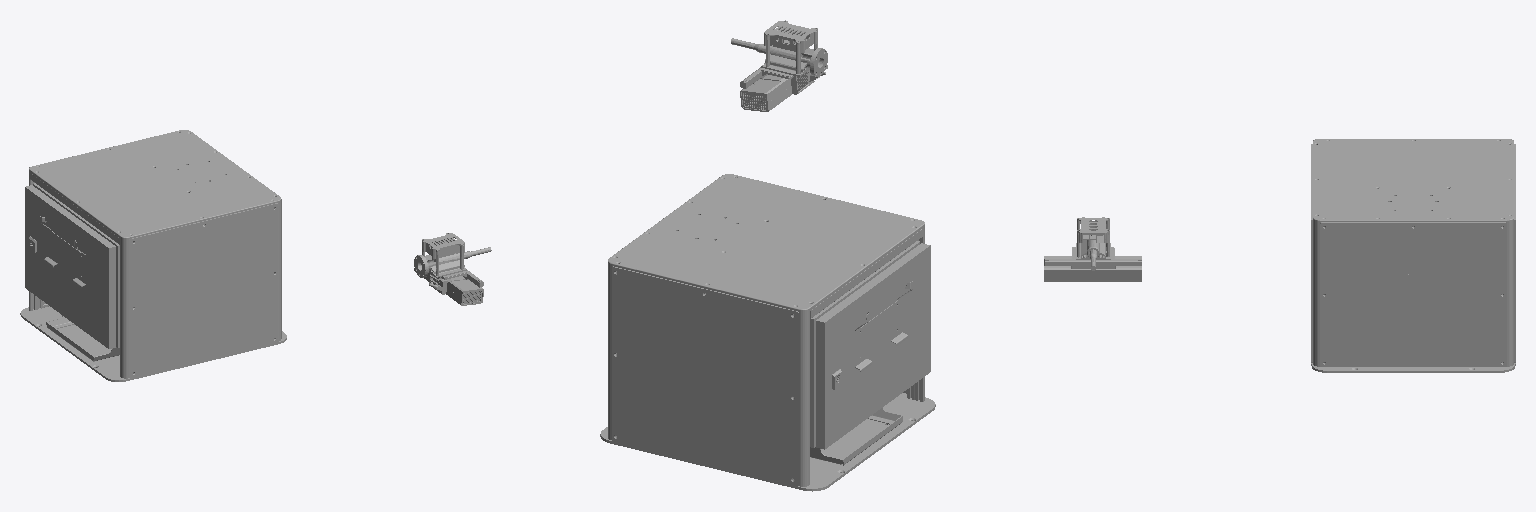
The robot description file, URDF, robot "monitoring_robot":
<?xml version="1.0" ?>
<!-- =================================================================================== -->
<!-- |    This document was autogenerated by xacro from [local-path]/ros_workspace/src/monitoring_robot/robot_description/monitoring_robot.urdf.xacro | -->
<!-- |    EDITING THIS FILE BY HAND IS NOT RECOMMENDED                                 | -->
<!-- =================================================================================== -->
<robot name="monitoring_robot" xmlns:xacro="http://www.ros.org/wiki/xacro">
  <material name="Neobotix/Black">
    <color rgba="0.0 0.0 0.0 1.0"/>
  </material>
  <material name="Neobotix/Blue">
    <color rgba="0.0 0.0 0.8 1.0"/>
  </material>
  <material name="Neobotix/Green">
    <color rgba="0.0 0.8 0.0 1.0"/>
  </material>
  <material name="Neobotix/Grey">
    <color rgba="0.7 0.7 0.7 1.0"/>
  </material>
  <material name="Neobotix/Grey2">
    <color rgba="0.9 0.9 0.9 1.0"/>
  </material>
  <material name="Neobotix/Red">
    <color rgba="0.8 0.0 0.0 1.0"/>
  </material>
  <material name="Neobotix/White">
    <color rgba="1.0 1.0 1.0 1.0"/>
  </material>
  <material name="Neobotix/Yellow">
    <color rgba="1.0 1.0 0 10"/>
  </material>
  <gazebo reference="base_link">
    <gravity>true</gravity>
    <self_collide>false</self_collide>
    <material value="Gazebo/Grey"/>
  </gazebo>
  <gazebo reference="sick_s300_laser_front_link">
    <material value="Gazebo/Yellow"/>
    <sensor name="sick_s300_laser_front_sensor" type="ray">
      <pose>0 0 0 0 0 0</pose>
      <visualize>true</visualize>
      <update_rate>40</update_rate>
      <ray>
        <scan>
          <horizontal>
            <samples>720</samples>
            <resolution>1</resolution>
            <min_angle>-0.174533</min_angle>
            <max_angle>3.31613</max_angle>
          </horizontal>
        </scan>
        <range>
          <min>0.10</min>
          <max>30.0</max>
          <resolution>0.05</resolution>
        </range>
        <noise>
          <type>gaussian</type>
          <!-- Noise parameters based on published spec for Hokuyo laser
                   achieving "+-30mm" accuracy at range < 10m.  A mean of 0.0m and
                   stddev of 0.01m will put 99.7% of samples within 0.03m of the true
                   reading. -->
          <mean>0.0</mean>
          <stddev>0.01</stddev>
        </noise>
      </ray>
      <plugin filename="libgazebo_ros_laser.so" name="sick_s300_laser_front">
        <topicName>sick_s300_front/scan</topicName>
        <frameName>sick_s300_laser_front_link</frameName>
      </plugin>
    </sensor>
  </gazebo>
  <gazebo reference="sick_s300_laser_back_link">
    <material value="Gazebo/Yellow"/>
    <sensor name="sick_s300_laser_back_sensor" type="ray">
      <pose>0 0 0 0 0 0</pose>
      <visualize>true</visualize>
      <update_rate>40</update_rate>
      <ray>
        <scan>
          <horizontal>
            <samples>720</samples>
            <resolution>1</resolution>
            <min_angle>-0.174533</min_angle>
            <max_angle>3.31613</max_angle>
          </horizontal>
        </scan>
        <range>
          <min>0.10</min>
          <max>30.0</max>
          <resolution>0.05</resolution>
        </range>
        <noise>
          <type>gaussian</type>
          <!-- Noise parameters based on published spec for Hokuyo laser
                   achieving "+-30mm" accuracy at range < 10m.  A mean of 0.0m and
                   stddev of 0.01m will put 99.7% of samples within 0.03m of the true
                   reading. -->
          <mean>0.0</mean>
          <stddev>0.01</stddev>
        </noise>
      </ray>
      <plugin filename="libgazebo_ros_laser.so" name="sick_s300_laser_back">
        <topicName>sick_s300_back/scan</topicName>
        <frameName>sick_s300_laser_back_link</frameName>
      </plugin>
    </sensor>
  </gazebo>
  <gazebo>
    <plugin filename="libgazebo_ros_planar_move.so" name="mpo_500_controller">
      <commandTopic>cmd_vel</commandTopic>
      <odometryTopic>odom</odometryTopic>
      <odometryFrame>odom</odometryFrame>
      <odometryRate>20.0</odometryRate>
      <robotBaseFrame>base_link</robotBaseFrame>
    </plugin>
  </gazebo>
  <link name="base_link">
    <inertial>
      <mass value="30"/>
      <origin rpy="0 0 0" xyz="0 0 0"/>
      <inertia ixx="1.71402" ixy="0.0" ixz="0.0" iyy="0.8856" iyz="0.0" izz="2.5725"/>
    </inertial>
    <visual>
      <origin rpy="0 0 -1.571" xyz="0.0 0.0 0.021"/>
      <geometry>
        <mesh filename="package://monitoring_robot/robot_description/mpo_700/meshes/MPO-700.stl" scale="0.001 0.001 0.001"/>
      </geometry>
      <material name="Neobotix/Grey"/>
    </visual>
    <collision>
      <origin rpy="0 0 0" xyz="0. 0. 0.2"/>
      <geometry>
        <box size="0.610 0.515 0.360"/>
      </geometry>
    </collision>
  </link>
  <joint name="sick_s300_laser_front_joint" type="fixed">
    <axis xyz="0 1 0"/>
    <origin rpy="3.14 0 0" xyz="0.360 0 0.223"/>
    <parent link="base_link"/>
    <child link="sick_s300_laser_front_link"/>
  </joint>
  <link name="sick_s300_laser_front_link" type="laser">
    <inertial>
      <mass value="0.001"/>
      <origin rpy="0 0 0" xyz="0 0 0"/>
      <inertia ixx="0.0001" ixy="0" ixz="0" iyy="0.000001" iyz="0" izz="0.0001"/>
    </inertial>
    <visual>
      <origin rpy="0 0 -1.5708" xyz="0 0 0.0"/>
      <geometry>
        <mesh filename="package://neo_simulation/robots/mpo_700/meshes/MPO-700-SICK.STL"/>
      </geometry>
      <material name="Neobotix/Yellow"/>
    </visual>
    <collision>
      <origin rpy="0 0 0" xyz="0 0 0"/>
      <geometry>
        <cylinder length="0.154" radius="0.053"/>
      </geometry>
    </collision>
  </link>
  <joint name="sick_s300_laser_back_joint" type="fixed">
    <axis xyz="0 1 0"/>
    <origin rpy="3.14 0 -3.14" xyz="-0.360 0 0.223"/>
    <parent link="base_link"/>
    <child link="sick_s300_laser_back_link"/>
  </joint>
  <link name="sick_s300_laser_back_link" type="laser">
    <inertial>
      <mass value="0.001"/>
      <origin rpy="0 0 0" xyz="0 0 0"/>
      <inertia ixx="0.0001" ixy="0" ixz="0" iyy="0.000001" iyz="0" izz="0.0001"/>
    </inertial>
    <visual>
      <origin rpy="0 0 -1.5708" xyz="0 0 0.0"/>
      <geometry>
        <mesh filename="package://neo_simulation/robots/mpo_700/meshes/MPO-700-SICK.STL"/>
      </geometry>
      <material name="Neobotix/Yellow"/>
    </visual>
    <collision>
      <origin rpy="0 0 0" xyz="0 0 0"/>
      <geometry>
        <cylinder length="0.154" radius="0.053"/>
      </geometry>
    </collision>
  </link>
  <link name="cabinet">
    <inertial>
      <mass value="30"/>
      <origin rpy="0 0 0" xyz="0 0 0"/>
      <inertia ixx="1.71402" ixy="0.0" ixz="0.0" iyy="0.8856" iyz="0.0" izz="2.5725"/>
    </inertial>
    <visual>
      <origin rpy="0 0 1.5708" xyz="0.0 0.0 0.0"/>
      <geometry>
        <mesh filename="package://monitoring_robot/robot_description/mpo_700/meshes/MPO700ControllerCabinet.stl" scale="0.01 0.01 0.01"/>
      </geometry>
      <material name="Neobotix/Grey"/>
    </visual>
    <collision>
      <origin rpy="0 0 0" xyz="0. 0. 0.2"/>
      <geometry>
        <box size="0.530 0.52 0.42"/>
      </geometry>
    </collision>
  </link>
  <joint name="base_cabinet" type="fixed">
    <parent link="base_link"/>
    <child link="cabinet"/>
    <origin rpy="0 0 0" xyz="0.0 0.0 0.36"/>
  </joint>
  <gazebo>
    <plugin filename="libgazebo_ros_control.so" name="ros_control">
      <!--robotNamespace>/</robotNamespace-->
      <!--robotSimType>gazebo_ros_control/DefaultRobotHWSim</robotSimType-->
    </plugin>
    <!--
    <plugin name="gazebo_ros_power_monitor_controller" filename="libgazebo_ros_power_monitor.so">
      <alwaysOn>true</alwaysOn>
      <updateRate>1.0</updateRate>
      <timeout>5</timeout>
      <powerStateTopic>power_state</powerStateTopic>
      <powerStateRate>10.0</powerStateRate>
      <fullChargeCapacity>87.78</fullChargeCapacity>     
      <dischargeRate>-474</dischargeRate>
      <chargeRate>525</chargeRate>
      <dischargeVoltage>15.52</dischargeVoltage>
      <chargeVoltage>16.41</chargeVoltage>
    </plugin>
-->
  </gazebo>
  <!-- measured from model -->
  <!--property name="shoulder_height" value="0.089159" /-->
  <!--property name="shoulder_offset" value="0.13585" /-->
  <!-- shoulder_offset - elbow_offset + wrist_1_length = 0.10915 -->
  <!--property name="upper_arm_length" value="0.42500" /-->
  <!--property name="elbow_offset" value="0.1197" /-->
  <!-- CAD measured -->
  <!--property name="forearm_length" value="0.39225" /-->
  <!--property name="wrist_1_length" value="0.093" /-->
  <!-- CAD measured -->
  <!--property name="wrist_2_length" value="0.09465" /-->
  <!-- In CAD this distance is 0.930, but in the spec it is 0.09465 -->
  <!--property name="wrist_3_length" value="0.0823" /-->
  <!-- manually measured -->
  <link name="ur5_base_link">
    <visual>
      <geometry>
        <mesh filename="package://ur_description/meshes/ur5/visual/base.dae"/>
      </geometry>
      <material name="LightGrey">
        <color rgba="0.7 0.7 0.7 1.0"/>
      </material>
    </visual>
    <collision>
      <geometry>
        <mesh filename="package://ur_description/meshes/ur5/collision/base.stl"/>
      </geometry>
    </collision>
    <inertial>
      <mass value="4.0"/>
      <origin rpy="0 0 0" xyz="0.0 0.0 0.0"/>
      <inertia ixx="0.00443333156" ixy="0.0" ixz="0.0" iyy="0.00443333156" iyz="0.0" izz="0.0072"/>
    </inertial>
  </link>
  <joint name="shoulder_pan_joint" type="revolute">
    <parent link="ur5_base_link"/>
    <child link="shoulder_link"/>
    <origin rpy="0.0 0.0 0.0" xyz="0.0 0.0 0.089159"/>
    <axis xyz="0 0 1"/>
    <limit effort="150.0" lower="-3.14159265359" upper="3.14159265359" velocity="3.15"/>
    <dynamics damping="0.0" friction="0.0"/>
  </joint>
  <link name="shoulder_link">
    <visual>
      <geometry>
        <mesh filename="package://ur_description/meshes/ur5/visual/shoulder.dae"/>
      </geometry>
      <material name="LightGrey">
        <color rgba="0.7 0.7 0.7 1.0"/>
      </material>
    </visual>
    <collision>
      <geometry>
        <mesh filename="package://ur_description/meshes/ur5/collision/shoulder.stl"/>
      </geometry>
    </collision>
    <inertial>
      <mass value="3.7"/>
      <origin rpy="0 0 0" xyz="0.0 0.0 0.0"/>
      <inertia ixx="0.010267495893" ixy="0.0" ixz="0.0" iyy="0.010267495893" iyz="0.0" izz="0.00666"/>
    </inertial>
  </link>
  <joint name="shoulder_lift_joint" type="revolute">
    <parent link="shoulder_link"/>
    <child link="upper_arm_link"/>
    <origin rpy="0.0 1.57079632679 0.0" xyz="0.0 0.13585 0.0"/>
    <axis xyz="0 1 0"/>
    <limit effort="150.0" lower="-3.14159265359" upper="3.14159265359" velocity="3.15"/>
    <dynamics damping="0.0" friction="0.0"/>
  </joint>
  <link name="upper_arm_link">
    <visual>
      <geometry>
        <mesh filename="package://ur_description/meshes/ur5/visual/upperarm.dae"/>
      </geometry>
      <material name="LightGrey">
        <color rgba="0.7 0.7 0.7 1.0"/>
      </material>
    </visual>
    <collision>
      <geometry>
        <mesh filename="package://ur_description/meshes/ur5/collision/upperarm.stl"/>
      </geometry>
    </collision>
    <inertial>
      <mass value="8.393"/>
      <origin rpy="0 0 0" xyz="0.0 0.0 0.28"/>
      <inertia ixx="0.22689067591" ixy="0.0" ixz="0.0" iyy="0.22689067591" iyz="0.0" izz="0.0151074"/>
    </inertial>
  </link>
  <joint name="elbow_joint" type="revolute">
    <parent link="upper_arm_link"/>
    <child link="forearm_link"/>
    <origin rpy="0.0 0.0 0.0" xyz="0.0 -0.1197 0.425"/>
    <axis xyz="0 1 0"/>
    <limit effort="150.0" lower="-3.14159265359" upper="3.14159265359" velocity="3.15"/>
    <dynamics damping="0.0" friction="0.0"/>
  </joint>
  <link name="forearm_link">
    <visual>
      <geometry>
        <mesh filename="package://ur_description/meshes/ur5/visual/forearm.dae"/>
      </geometry>
      <material name="LightGrey">
        <color rgba="0.7 0.7 0.7 1.0"/>
      </material>
    </visual>
    <collision>
      <geometry>
        <mesh filename="package://ur_description/meshes/ur5/collision/forearm.stl"/>
      </geometry>
    </collision>
    <inertial>
      <mass value="2.275"/>
      <origin rpy="0 0 0" xyz="0.0 0.0 0.25"/>
      <inertia ixx="0.049443313556" ixy="0.0" ixz="0.0" iyy="0.049443313556" iyz="0.0" izz="0.004095"/>
    </inertial>
  </link>
  <joint name="wrist_1_joint" type="revolute">
    <parent link="forearm_link"/>
    <child link="wrist_1_link"/>
    <origin rpy="0.0 1.57079632679 0.0" xyz="0.0 0.0 0.39225"/>
    <axis xyz="0 1 0"/>
    <limit effort="28.0" lower="-3.14159265359" upper="3.14159265359" velocity="3.2"/>
    <dynamics damping="0.0" friction="0.0"/>
  </joint>
  <link name="wrist_1_link">
    <visual>
      <geometry>
        <mesh filename="package://ur_description/meshes/ur5/visual/wrist1.dae"/>
      </geometry>
      <material name="LightGrey">
        <color rgba="0.7 0.7 0.7 1.0"/>
      </material>
    </visual>
    <collision>
      <geometry>
        <mesh filename="package://ur_description/meshes/ur5/collision/wrist1.stl"/>
      </geometry>
    </collision>
    <inertial>
      <mass value="1.219"/>
      <origin rpy="0 0 0" xyz="0.0 0.0 0.0"/>
      <inertia ixx="0.111172755531" ixy="0.0" ixz="0.0" iyy="0.111172755531" iyz="0.0" izz="0.21942"/>
    </inertial>
  </link>
  <joint name="wrist_2_joint" type="revolute">
    <parent link="wrist_1_link"/>
    <child link="wrist_2_link"/>
    <origin rpy="0.0 0.0 0.0" xyz="0.0 0.093 0.0"/>
    <axis xyz="0 0 1"/>
    <limit effort="28.0" lower="-3.14159265359" upper="3.14159265359" velocity="3.2"/>
    <dynamics damping="0.0" friction="0.0"/>
  </joint>
  <link name="wrist_2_link">
    <visual>
      <geometry>
        <mesh filename="package://ur_description/meshes/ur5/visual/wrist2.dae"/>
      </geometry>
      <material name="LightGrey">
        <color rgba="0.7 0.7 0.7 1.0"/>
      </material>
    </visual>
    <collision>
      <geometry>
        <mesh filename="package://ur_description/meshes/ur5/collision/wrist2.stl"/>
      </geometry>
    </collision>
    <inertial>
      <mass value="1.219"/>
      <origin rpy="0 0 0" xyz="0.0 0.0 0.0"/>
      <inertia ixx="0.111172755531" ixy="0.0" ixz="0.0" iyy="0.111172755531" iyz="0.0" izz="0.21942"/>
    </inertial>
  </link>
  <joint name="wrist_3_joint" type="revolute">
    <parent link="wrist_2_link"/>
    <child link="wrist_3_link"/>
    <origin rpy="0.0 0.0 0.0" xyz="0.0 0.0 0.09465"/>
    <axis xyz="0 1 0"/>
    <limit effort="28.0" lower="-3.14159265359" upper="3.14159265359" velocity="3.2"/>
    <dynamics damping="0.0" friction="0.0"/>
  </joint>
  <link name="wrist_3_link">
    <visual>
      <geometry>
        <mesh filename="package://ur_description/meshes/ur5/visual/wrist3.dae"/>
      </geometry>
      <material name="LightGrey">
        <color rgba="0.7 0.7 0.7 1.0"/>
      </material>
    </visual>
    <collision>
      <geometry>
        <mesh filename="package://ur_description/meshes/ur5/collision/wrist3.stl"/>
      </geometry>
    </collision>
    <inertial>
      <mass value="0.1879"/>
      <origin rpy="0 0 0" xyz="0.0 0.0 0.0"/>
      <inertia ixx="0.0171364731454" ixy="0.0" ixz="0.0" iyy="0.0171364731454" iyz="0.0" izz="0.033822"/>
    </inertial>
  </link>
  <joint name="ee_fixed_joint" type="fixed">
    <parent link="wrist_3_link"/>
    <child link="ee_link"/>
    <origin rpy="0.0 0.0 1.57079632679" xyz="0.0 0.0823 0.0"/>
  </joint>
  <link name="ee_link">
    <collision>
      <geometry>
        <box size="0.01 0.01 0.01"/>
      </geometry>
      <origin rpy="0 0 0" xyz="-0.01 0 0"/>
    </collision>
  </link>
  <transmission name="shoulder_pan_trans">
    <type>transmission_interface/SimpleTransmission</type>
    <joint name="shoulder_pan_joint">
      <hardwareInterface>hardware_interface/PositionJointInterface</hardwareInterface>
    </joint>
    <actuator name="shoulder_pan_motor">
      <mechanicalReduction>1</mechanicalReduction>
    </actuator>
  </transmission>
  <transmission name="shoulder_lift_trans">
    <type>transmission_interface/SimpleTransmission</type>
    <joint name="shoulder_lift_joint">
      <hardwareInterface>hardware_interface/PositionJointInterface</hardwareInterface>
    </joint>
    <actuator name="shoulder_lift_motor">
      <mechanicalReduction>1</mechanicalReduction>
    </actuator>
  </transmission>
  <transmission name="elbow_trans">
    <type>transmission_interface/SimpleTransmission</type>
    <joint name="elbow_joint">
      <hardwareInterface>hardware_interface/PositionJointInterface</hardwareInterface>
    </joint>
    <actuator name="elbow_motor">
      <mechanicalReduction>1</mechanicalReduction>
    </actuator>
  </transmission>
  <transmission name="wrist_1_trans">
    <type>transmission_interface/SimpleTransmission</type>
    <joint name="wrist_1_joint">
      <hardwareInterface>hardware_interface/PositionJointInterface</hardwareInterface>
    </joint>
    <actuator name="wrist_1_motor">
      <mechanicalReduction>1</mechanicalReduction>
    </actuator>
  </transmission>
  <transmission name="wrist_2_trans">
    <type>transmission_interface/SimpleTransmission</type>
    <joint name="wrist_2_joint">
      <hardwareInterface>hardware_interface/PositionJointInterface</hardwareInterface>
    </joint>
    <actuator name="wrist_2_motor">
      <mechanicalReduction>1</mechanicalReduction>
    </actuator>
  </transmission>
  <transmission name="wrist_3_trans">
    <type>transmission_interface/SimpleTransmission</type>
    <joint name="wrist_3_joint">
      <hardwareInterface>hardware_interface/PositionJointInterface</hardwareInterface>
    </joint>
    <actuator name="wrist_3_motor">
      <mechanicalReduction>1</mechanicalReduction>
    </actuator>
  </transmission>
  <gazebo reference="shoulder_link">
    <selfCollide>true</selfCollide>
  </gazebo>
  <gazebo reference="upper_arm_link">
    <selfCollide>true</selfCollide>
  </gazebo>
  <gazebo reference="forearm_link">
    <selfCollide>true</selfCollide>
  </gazebo>
  <gazebo reference="wrist_1_link">
    <selfCollide>true</selfCollide>
  </gazebo>
  <gazebo reference="wrist_3_link">
    <selfCollide>true</selfCollide>
  </gazebo>
  <gazebo reference="wrist_2_link">
    <selfCollide>true</selfCollide>
  </gazebo>
  <gazebo reference="ee_link">
    <selfCollide>true</selfCollide>
  </gazebo>
  <!-- ROS ur5_base_link to UR 'Base' Coordinates transform -->
  <link name="base"/>
  <joint name="ur5_base_link-base_fixed_joint" type="fixed">
    <!-- NOTE: this rotation is only needed as long as ur5_base_link itself is
                 not corrected wrt the real robot (ie: rotated over 180
                 degrees)
      -->
    <origin rpy="0 0 -3.14159265359" xyz="0 0 0"/>
    <parent link="ur5_base_link"/>
    <child link="base"/>
  </joint>
  <!-- Frame coincident with all-zeros TCP on UR controller -->
  <link name="tool0"/>
  <joint name="wrist_3_link-tool0_fixed_joint" type="fixed">
    <origin rpy="-1.57079632679 0 0" xyz="0 0.0823 0"/>
    <parent link="wrist_3_link"/>
    <child link="tool0"/>
  </joint>
  <joint name="cabinet_ur5" type="fixed">
    <parent link="cabinet"/>
    <child link="ur5_base_link"/>
    <origin rpy="0.0 0.0 -1.5708" xyz="0.15 0.0 0.43"/>
  </joint>
  <!-- 
    These properties must be observed by any machine
    that wants to be defined as a turtlebot. Refer
    to the REP for more details.
    
    http://www.ros.org/reps/rep-0119.html
   -->
  <link name="tool_cam_mic_raspi">
    <inertial>
      <mass value="30"/>
      <origin rpy="0 0 0" xyz="0 0 0"/>
      <inertia ixx="1.71402" ixy="0.0" ixz="0.0" iyy="0.8856" iyz="0.0" izz="2.5725"/>
    </inertial>
    <visual>
      <origin rpy="0 0 0" xyz="0.0 0.0 0.0"/>
      <geometry>
        <mesh filename="package://monitoring_robot/robot_description/tool/tool_cam_mic_raspi.stl" scale="0.001 0.001 0.001"/>
      </geometry>
      <material name="Neobotix/Grey"/>
    </visual>
    <collision>
      <origin rpy="0 0 0" xyz="0 0 0"/>
      <geometry>
        <mesh filename="package://monitoring_robot/robot_description/tool/tool_cam_mic_raspi.stl" scale="0.001 0.001 0.001"/>
      </geometry>
    </collision>
  </link>
  <joint name="tool_ur5" type="fixed">
    <parent link="tool0"/>
    <child link="tool_cam_mic_raspi"/>
    <origin rpy="1.5708 0 1.5708" xyz="0.0 1.0 -0.19"/>
  </joint>
  <joint name="camera_rgb_joint" type="fixed">
    <origin rpy="1.5708 3.1415 -1.5708" xyz="-1.06 0.32 0.0"/>
    <parent link="tool_cam_mic_raspi"/>
    <child link="camera_rgb_frame"/>
  </joint>
  <link name="camera_rgb_frame"/>
  <joint name="camera_rgb_optical_joint" type="fixed">
    <origin rpy="-1.57079632679 0 -1.57079632679" xyz="0 0 0"/>
    <parent link="camera_rgb_frame"/>
    <child link="camera_rgb_optical_frame"/>
  </joint>
  <link name="camera_rgb_optical_frame"/>
  <joint name="camera_joint" type="fixed">
    <origin rpy="0 0 0" xyz="-0.031 0.0125 -0.016"/>
    <parent link="camera_rgb_frame"/>
    <child link="camera_link"/>
  </joint>
  <link name="camera_link">
    <!--visual>
       <origin xyz="0 0 0" rpy="0 0 ${M_PI/2}"/>
        <geometry>
         <mesh filename="package://turtlebot_description/meshes/sensors/kinect.dae"/>
        </geometry>
      </visual-->
    <!--collision>
        <origin xyz="0.0 0.0 0.0" rpy="0 0 0"/>
  \t    <geometry>
  \t      <box size="0.07271 0.27794 0.073"/>
  \t    </geometry>
  \t  </collision-->
    <!--inertial>
        <mass value="0.564" />
        <origin xyz="0 0 0" />
        <inertia ixx="0.003881243" ixy="0.0" ixz="0.0"
                 iyy="0.000498940" iyz="0.0"
                 izz="0.003879257" />
      </inertial-->
  </link>
  <!-- The fixed joints & links below are usually published by static_transformers launched by the OpenNi launch 
         files. However, for Gazebo simulation we need them, so we add them here.
         (Hence, don't publish them additionally!) -->
  <joint name="camera_depth_joint" type="fixed">
    <origin rpy="0 0 0" xyz="0 0.025 0"/>
    <parent link="camera_rgb_frame"/>
    <child link="camera_depth_frame"/>
  </joint>
  <link name="camera_depth_frame"/>
  <joint name="camera_depth_optical_joint" type="fixed">
    <origin rpy="-1.57079632679 0 -1.57079632679" xyz="0 0 0"/>
    <parent link="camera_depth_frame"/>
    <child link="camera_depth_optical_frame"/>
  </joint>
  <link name="camera_depth_optical_frame"/>
  <gazebo reference="camera_link">
    <sensor name="camera" type="depth">
      <always_on>true</always_on>
      <update_rate>20.0</update_rate>
      <camera>
        <horizontal_fov>1.0471975512</horizontal_fov>
        <image>
          <format>B8G8R8</format>
          <width>640</width>
          <height>480</height>
        </image>
        <clip>
          <near>0.05</near>
          <far>8.0</far>
        </clip>
      </camera>
      <plugin filename="libgazebo_ros_openni_kinect.so" name="kinect_camera_controller">
        <cameraName>camera</cameraName>
        <alwaysOn>true</alwaysOn>
        <updateRate>10</updateRate>
        <imageTopicName>rgb/image_raw</imageTopicName>
        <depthImageTopicName>depth/image_raw</depthImageTopicName>
        <pointCloudTopicName>depth/points</pointCloudTopicName>
        <cameraInfoTopicName>rgb/camera_info</cameraInfoTopicName>
        <depthImageCameraInfoTopicName>depth/camera_info</depthImageCameraInfoTopicName>
        <frameName>camera_depth_optical_frame</frameName>
        <baseline>0.1</baseline>
        <distortion_k1>0.0</distortion_k1>
        <distortion_k2>0.0</distortion_k2>
        <distortion_k3>0.0</distortion_k3>
        <distortion_t1>0.0</distortion_t1>
        <distortion_t2>0.0</distortion_t2>
        <pointCloudCutoff>0.4</pointCloudCutoff>
      </plugin>
    </sensor>
  </gazebo>
</robot>

--- Render facts (derived) ---
The picture shows the robot from 3 angles, left to right: view 1: azimuth 30°, elevation 25°; view 2: azimuth 150°, elevation 25°; view 3: azimuth 270°, elevation 25°; orthographic projection.
Model monitoring_robot with 20 links and 19 joints (6 revolute, 13 fixed), rooted at base_link, posed every joint at zero.
Links seen in each view (by area): view 1: cabinet, tool_cam_mic_raspi; view 2: cabinet, tool_cam_mic_raspi; view 3: cabinet, tool_cam_mic_raspi.
Link boxes in pixels (x1,y1,x2,y2): cabinet: (20,130,286,381); tool_cam_mic_raspi: (414,233,491,305); cabinet: (600,174,935,491); tool_cam_mic_raspi: (731,20,827,111); cabinet: (1311,139,1515,372); tool_cam_mic_raspi: (1044,217,1141,281).
Bounding box of the posed robot: 0.8544 × 1.2 × 0.4828 m (x, y, z).
Meshes: 11 distinct files referenced, 2 mesh visuals loaded (2 binary STL); not drawn: 10 (reference not matched to a file when rendering).